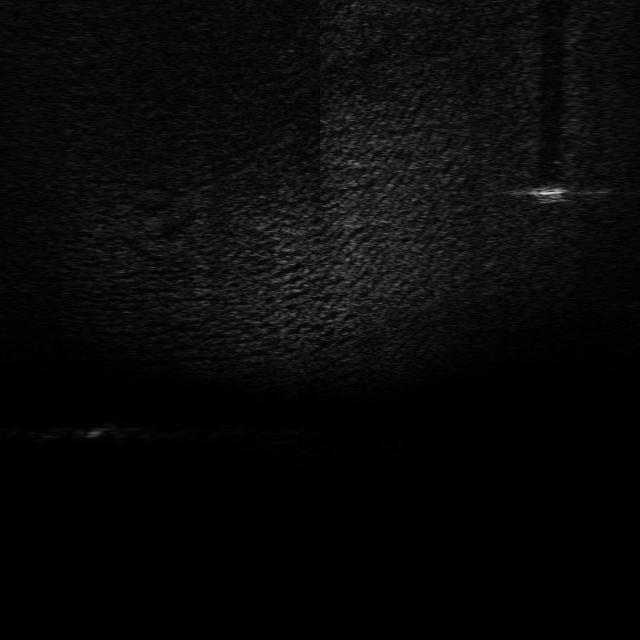cube: (527, 178, 569, 204)
